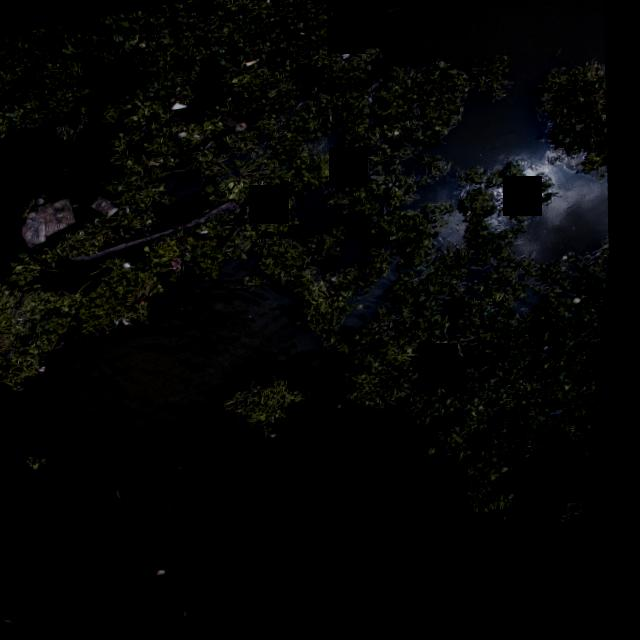plastic: (11, 188, 86, 259), (89, 187, 126, 228), (238, 58, 267, 74), (165, 102, 191, 117), (555, 412, 574, 431), (38, 362, 59, 379), (173, 258, 193, 274), (162, 568, 182, 583), (338, 53, 355, 70), (256, 195, 273, 211), (125, 317, 139, 331), (200, 229, 216, 241), (125, 263, 138, 273), (576, 306, 590, 314), (263, 0, 272, 11), (564, 264, 576, 272), (487, 317, 496, 327), (149, 516, 158, 525), (343, 409, 351, 417), (119, 321, 128, 328), (5, 102, 14, 108)
